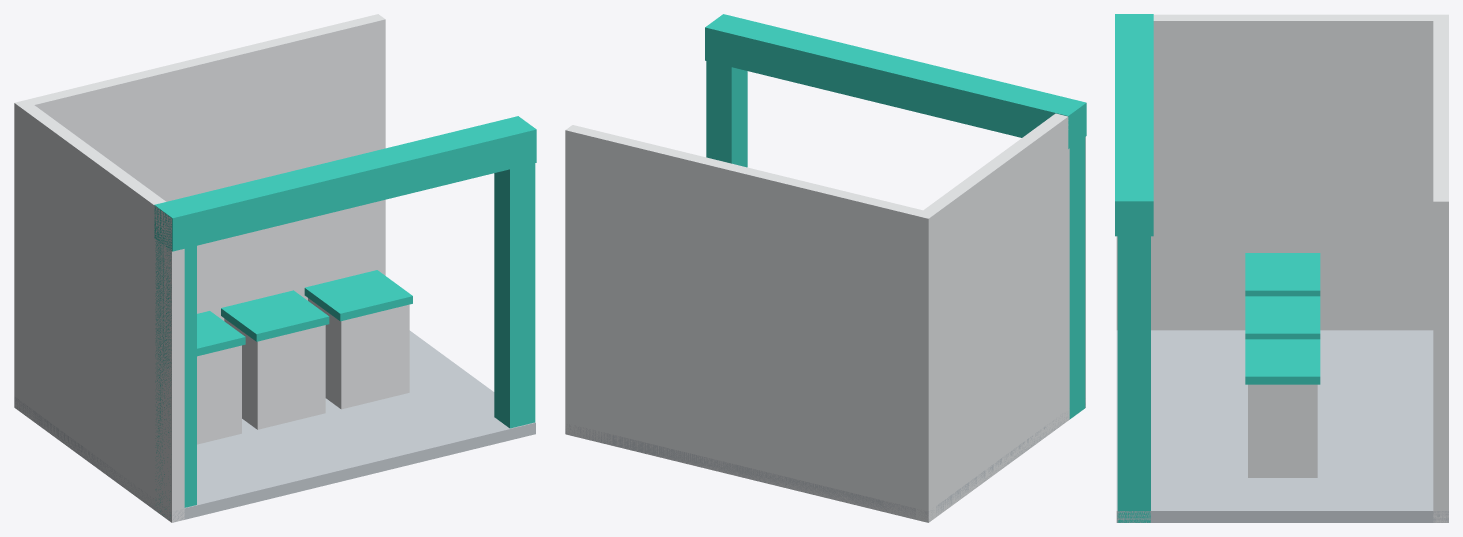
3 views of the same model, side by side, from view 1: azimuth 30°, elevation 25°; view 2: azimuth 150°, elevation 25°; view 3: azimuth 270°, elevation 25° (orthographic). The views are drawn at different scales.
Visible parts, largest first — view 1: Exhibition Booth Concept; view 2: Exhibition Booth Concept; view 3: Exhibition Booth Concept.
Part boxes in pixels (x1=…): Exhibition Booth Concept: x1=14, y1=14, x2=536, y2=522; Exhibition Booth Concept: x1=565, y1=14, x2=1086, y2=522; Exhibition Booth Concept: x1=1115, y1=14, x2=1448, y2=522.
Bounding box in the file's own units: 4 × 3.2 × 3.01.
